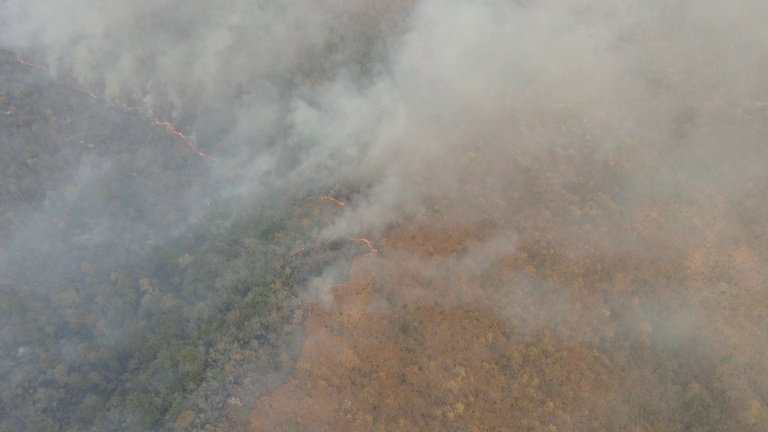fire: (11, 51, 143, 115), (145, 113, 236, 169), (345, 229, 383, 272), (295, 186, 351, 214), (301, 284, 322, 333)
smoke: (295, 1, 668, 190), (3, 2, 288, 181)
